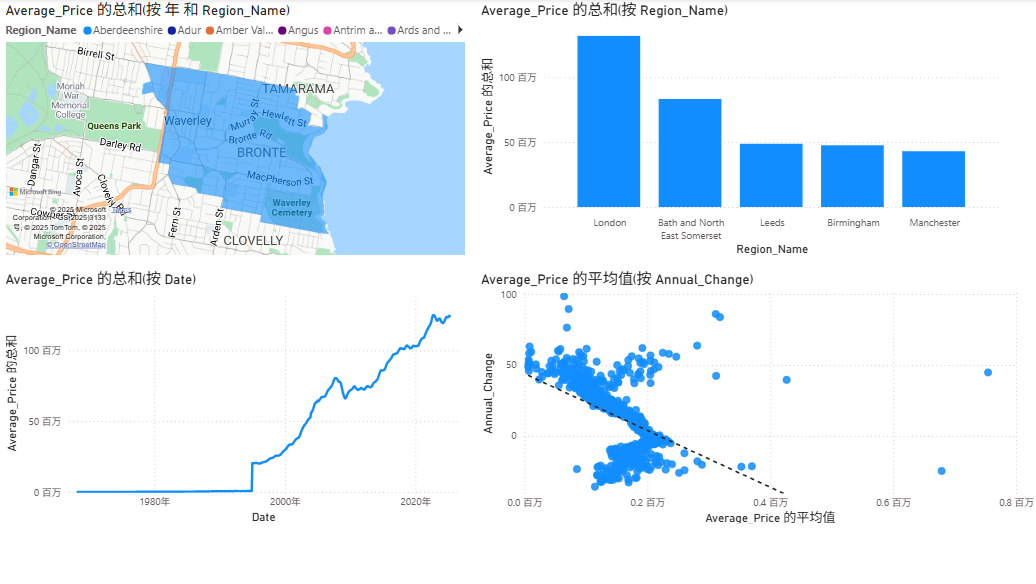

Layout of this report page (visuals, bound fields, positions):
{"tool":"powerbi","page":{"name":"第 1 页","canvas":[1280,720],"ordinal":0},"visuals":[{"type":"filledMap","fields":{"Series":["Average-prices-2025-04.Region_Name"],"Category":["Average-prices-2025-04.Date.变体.日期层次结构.年","Average-prices-2025-04.Date.变体.日期层次结构.季度","Average-prices-2025-04.Date.变体.日期层次结构.月份","Average-prices-2025-04.Date.变体.日期层次结构.日"]},"box":[9.4,0,572.6,319.4],"z":0},{"type":"lineChart","fields":{"Category":["Average-prices-2025-04.Date"],"Y":["Sum(Average-prices-2025-04.Average_Price)"]},"box":[9,329,573,319],"z":1},{"type":"columnChart","fields":{"Category":["Average-prices-2025-04.Region_Name"],"Y":["Sum(Average-prices-2025-04.Average_Price)"]},"box":[591.9,0,645.2,319.8],"z":2},{"type":"scatterChart","fields":{"X":["Avg(Average-prices-2025-04.Average_Price)"],"Y":["Average-prices-2025-04.Annual_Change"]},"box":[591.9,329,687.5,319.8],"z":3}]}

Visuals, with their boxes in screenshot pixels (x1, y1, x2, y2), scaled from the page's 1280x720 canvas onto the 1036x584 screenshot:
filledMap - Average-prices-2025-04.Region_Name x Average-prices-2025-04.Date.变体.日期层次结构.年: crop(8, 0, 471, 259)
lineChart - Average-prices-2025-04.Date x Sum(Average-prices-2025-04.Average_Price): crop(7, 267, 471, 526)
columnChart - Average-prices-2025-04.Region_Name x Sum(Average-prices-2025-04.Average_Price): crop(479, 0, 1001, 259)
scatterChart - Avg(Average-prices-2025-04.Average_Price) x Average-prices-2025-04.Annual_Change: crop(479, 267, 1035, 526)
